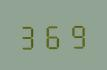nine: (65, 19, 87, 49)
six: (42, 20, 64, 49)
three: (18, 20, 40, 50)
